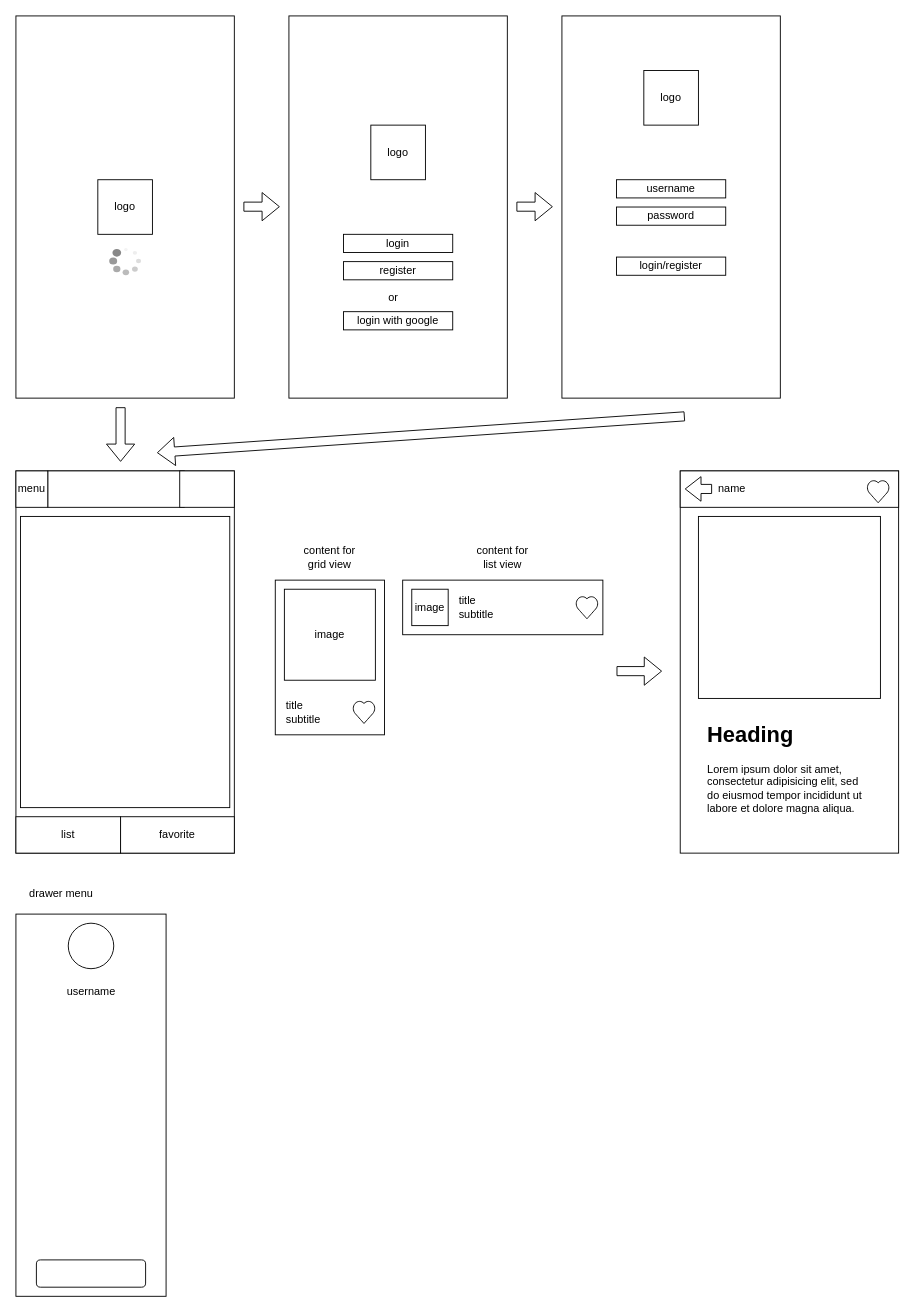
This 915x1312 diagram has some shape labels left out. Here are the shapes that lost their labels. From the top down, the centre of each, then its label:
point (115, 488): app name
point (206, 488): view mode
point (125, 662): contents in grid or list
point (90, 945): user icon
point (90, 1273): sign out
